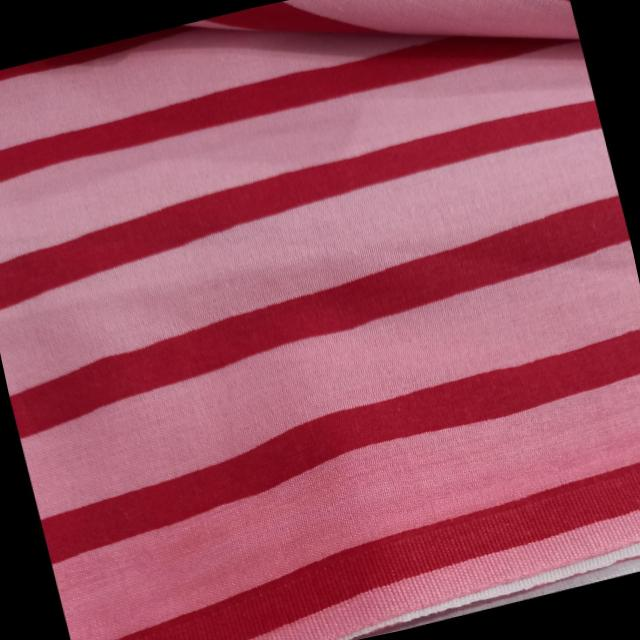color issues: (6, 207, 640, 640)
